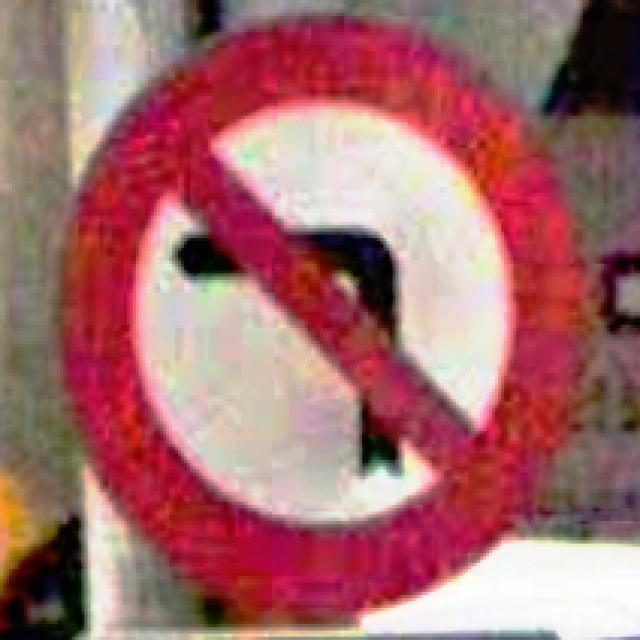noturnleft: (51, 6, 601, 624)
